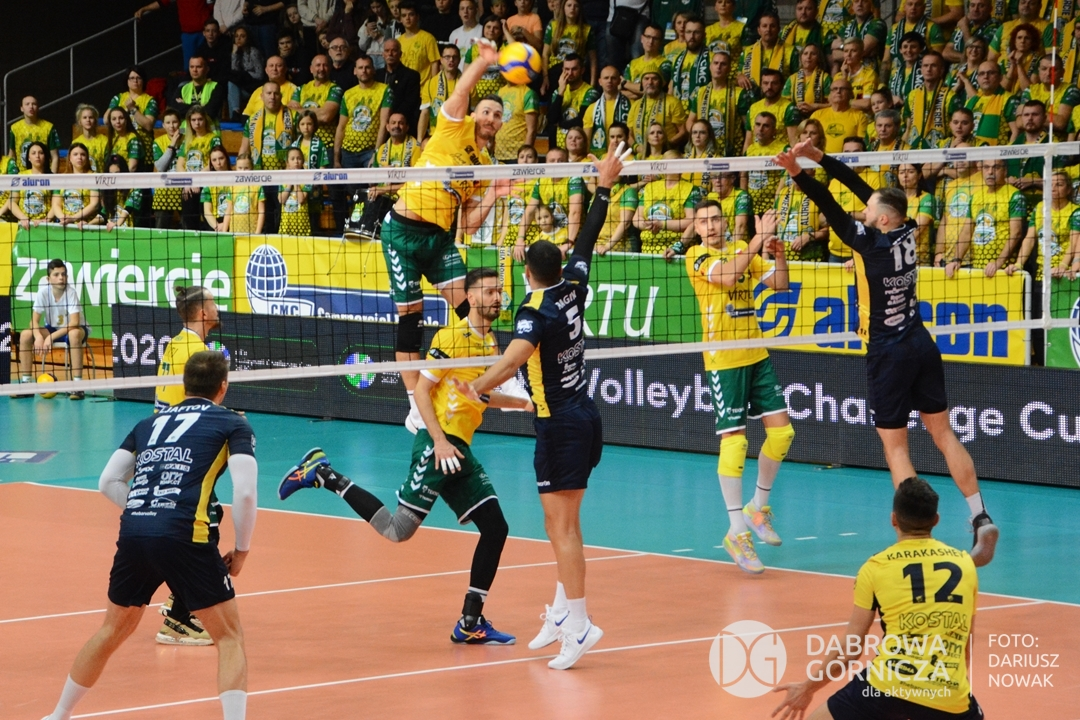ball: (498, 42, 541, 84)
